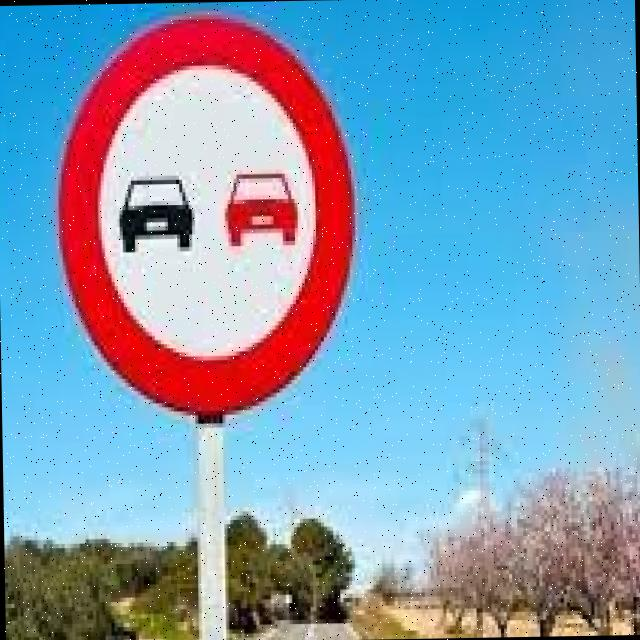no_passing: (49, 0, 370, 429)
